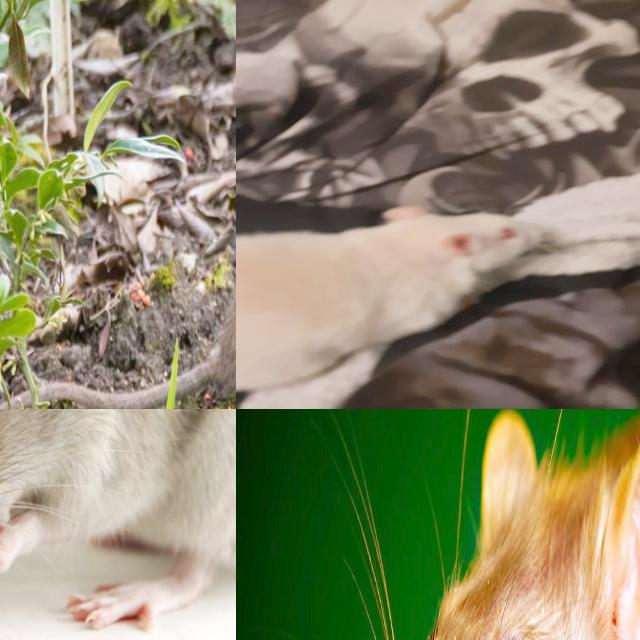rat: (335, 409, 640, 640), (236, 206, 545, 409), (0, 409, 236, 555)
